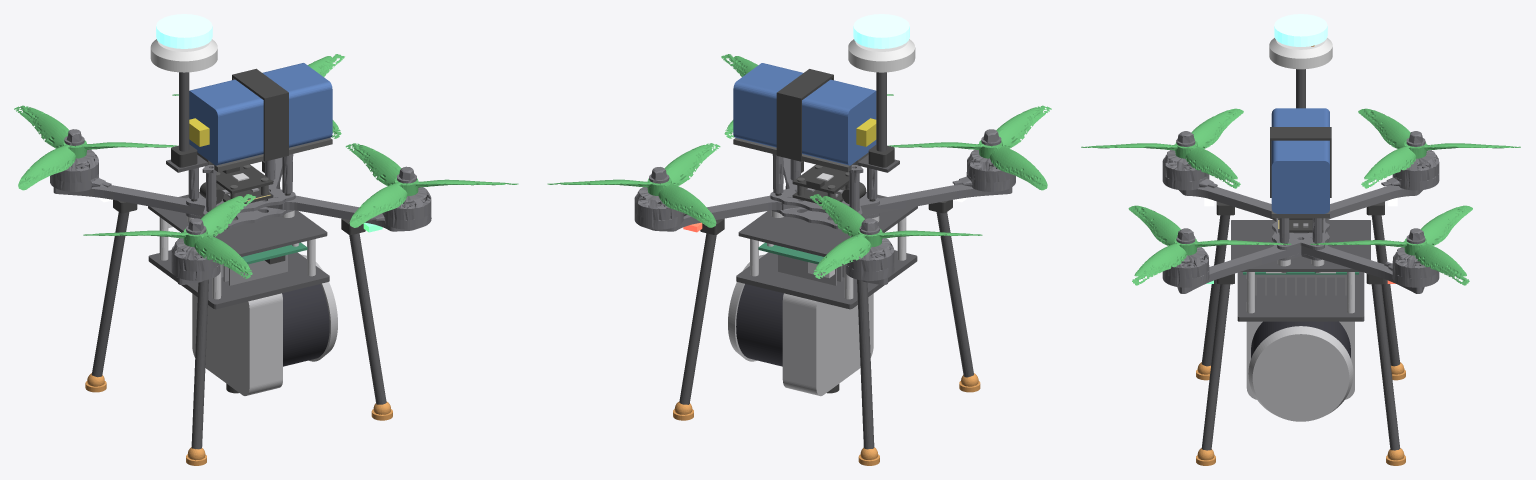
Rendered from mapper.glb.
3 views of the same model, side by side, from view 1: azimuth 30°, elevation 25°; view 2: azimuth 150°, elevation 25°; view 3: azimuth 270°, elevation 25° (orthographic). The views are drawn at different scales.
Visible parts, largest first — view 1: airframe, 4S_1550_mAh_LiPo__top_mount__1, Livox_Mid_360_3D_lidar__inverted__under_frame__2, Landing_gear__4x_CF_legs__tall__1, Bottom_adapter_plate_1, Livox_Mid_360_3D_lidar__inverted__under_frame__3, Livox_Mid_360_3D_lidar__inverted__under_frame__1, rotor_0_visual, rotor_1_visual, rotor_3_visual, 4S_1550_mAh_LiPo__top_mount__2, role_beacon (+10 smaller); view 2: airframe, 4S_1550_mAh_LiPo__top_mount__1, Livox_Mid_360_3D_lidar__inverted__under_frame__2, Landing_gear__4x_CF_legs__tall__1, Bottom_adapter_plate_1, Livox_Mid_360_3D_lidar__inverted__under_frame__3, Livox_Mid_360_3D_lidar__inverted__under_frame__1, rotor_2_visual, rotor_3_visual, rotor_1_visual, 4S_1550_mAh_LiPo__top_mount__2, role_beacon (+10 smaller); view 3: airframe, Livox_Mid_360_3D_lidar__inverted__under_frame__2, Landing_gear__4x_CF_legs__tall__1, 4S_1550_mAh_LiPo__top_mount__1, Livox_Mid_360_3D_lidar__inverted__under_frame__1, Bottom_adapter_plate_1, rotor_1_visual, rotor_3_visual, rotor_0_visual, rotor_2_visual, role_beacon, M10_GNSS___compass_on_mast_2 (+6 smaller).
Part boxes in pixels (<box>): airframe: <box>50,129,431,284</box>; 4S_1550_mAh_LiPo__top_mount__1: <box>189,63,332,165</box>; Livox_Mid_360_3D_lidar__inverted__under_frame__2: <box>192,254,337,395</box>; Landing_gear__4x_CF_legs__tall__1: <box>91,183,386,449</box>; Bottom_adapter_plate_1: <box>148,192,327,256</box>; Livox_Mid_360_3D_lidar__inverted__under_frame__3: <box>282,284,329,366</box>; Livox_Mid_360_3D_lidar__inverted__under_frame__1: <box>148,250,329,309</box>; rotor_0_visual: <box>345,143,518,227</box>; rotor_1_visual: <box>14,105,177,190</box>; rotor_3_visual: <box>83,194,255,278</box>; 4S_1550_mAh_LiPo__top_mount__2: <box>232,68,288,161</box>; role_beacon: <box>156,14,212,48</box>; airframe: <box>634,129,1015,284</box>; 4S_1550_mAh_LiPo__top_mount__1: <box>733,63,876,165</box>; Livox_Mid_360_3D_lidar__inverted__under_frame__2: <box>728,254,873,396</box>; Landing_gear__4x_CF_legs__tall__1: <box>679,184,973,449</box>; Bottom_adapter_plate_1: <box>738,192,917,256</box>; Livox_Mid_360_3D_lidar__inverted__under_frame__3: <box>736,284,783,366</box>; Livox_Mid_360_3D_lidar__inverted__under_frame__1: <box>736,250,917,309</box>; rotor_2_visual: <box>547,143,720,227</box>; rotor_3_visual: <box>888,105,1051,190</box>; rotor_1_visual: <box>810,194,982,278</box>; 4S_1550_mAh_LiPo__top_mount__2: <box>776,69,833,161</box>; role_beacon: <box>853,14,909,48</box>; airframe: <box>1162,131,1439,293</box>; Livox_Mid_360_3D_lidar__inverted__under_frame__2: <box>1246,321,1354,421</box>; Landing_gear__4x_CF_legs__tall__1: <box>1201,215,1400,450</box>; 4S_1550_mAh_LiPo__top_mount__1: <box>1271,108,1329,213</box>; Livox_Mid_360_3D_lidar__inverted__under_frame__1: <box>1237,272,1364,321</box>; Bottom_adapter_plate_1: <box>1231,220,1370,271</box>; rotor_1_visual: <box>1358,108,1520,188</box>; rotor_3_visual: <box>1081,108,1243,188</box>; rotor_0_visual: <box>1128,205,1291,285</box>; rotor_2_visual: <box>1310,205,1472,285</box>; role_beacon: <box>1274,14,1327,46</box>; M10_GNSS___compass_on_mast_2: <box>1269,38,1332,69</box>.
Size of the model in its own units: 0.2493 by 0.2443 by 0.2648.
